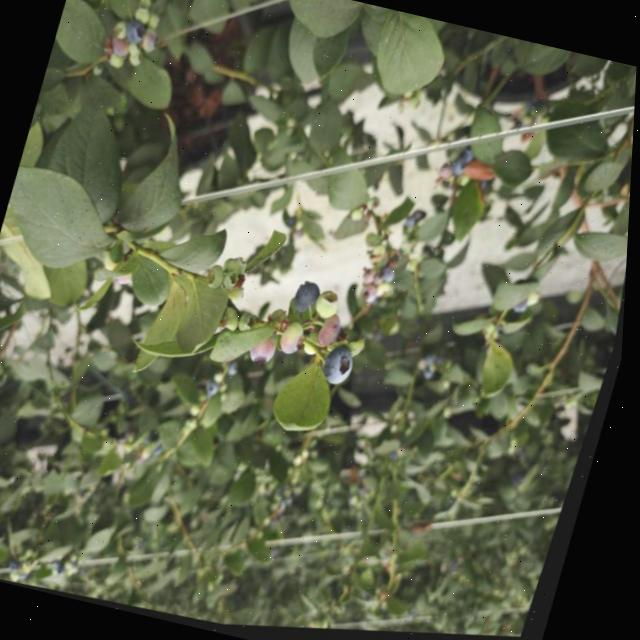RipeBlueBerry: (322, 340, 368, 391), (292, 274, 333, 318)
Semi-RipeBlueBerry: (249, 332, 288, 372), (318, 310, 353, 352)
UnripeBlueBerry: (279, 317, 318, 361), (313, 284, 352, 325)
